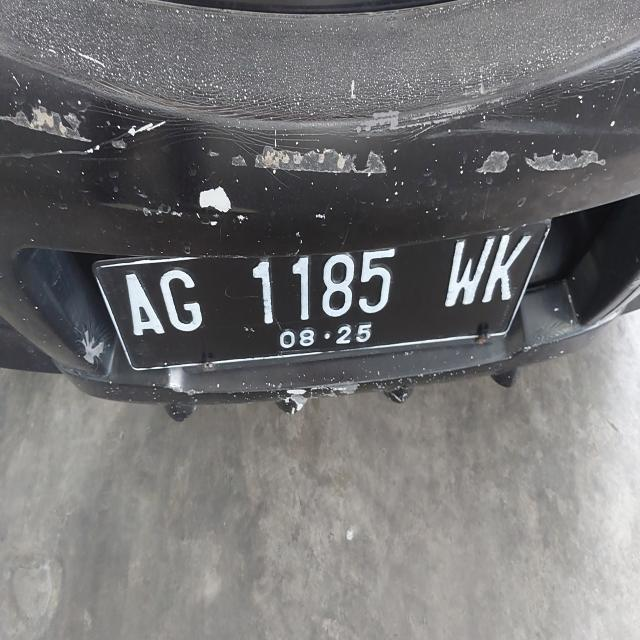1: (248, 260, 278, 332), (288, 256, 315, 324)
5: (357, 249, 397, 317)
8: (321, 254, 355, 319)
A: (120, 268, 166, 346)
G: (157, 264, 206, 340)
K: (490, 231, 532, 310)
W: (444, 237, 491, 310)
